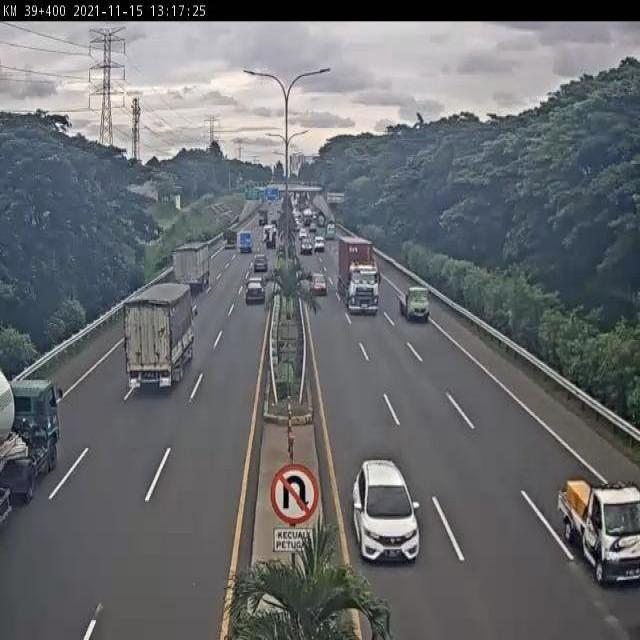big truck: (337, 239, 380, 313)
car: (352, 461, 420, 567), (245, 279, 267, 305), (309, 272, 329, 297), (252, 252, 269, 275)
truck-l-: (0, 369, 60, 523)
truck-m-: (125, 284, 198, 387), (172, 241, 212, 288)
truck-s-: (555, 480, 640, 587), (399, 287, 430, 321)
